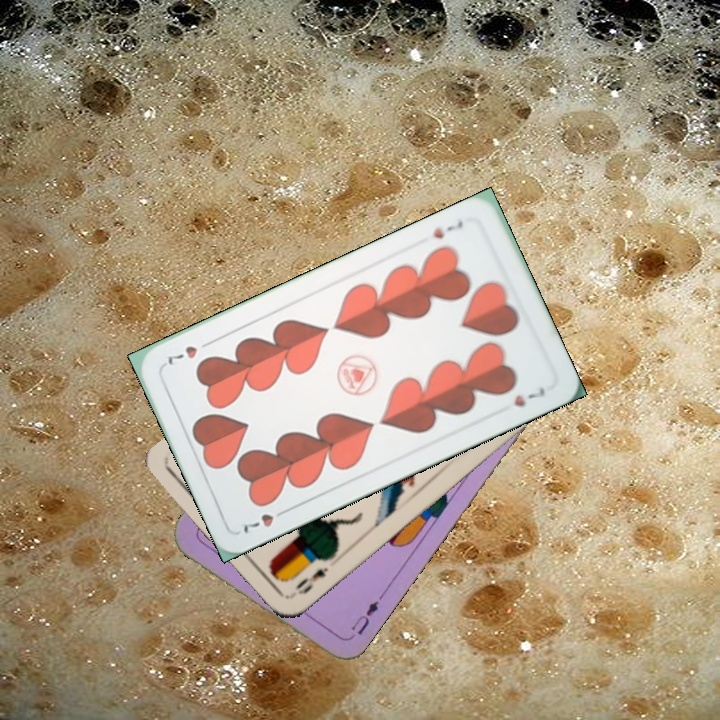EO: (291, 563, 331, 598)
EU: (347, 596, 382, 638)
H7: (239, 504, 292, 536), (429, 217, 466, 242)
